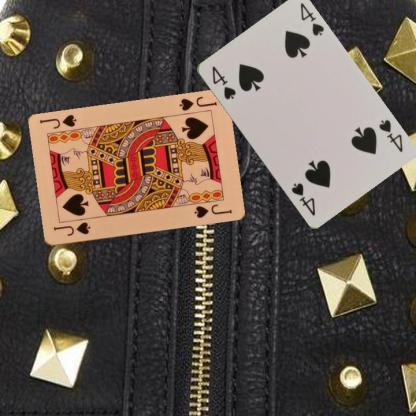4s: (208, 63, 237, 101), (375, 116, 404, 154)
Js: (50, 219, 92, 238), (176, 94, 218, 113)
